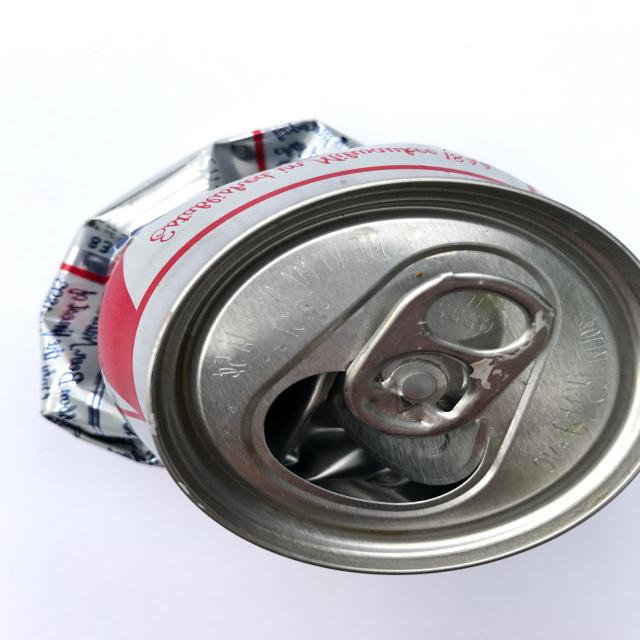metal: (32, 98, 638, 582)
